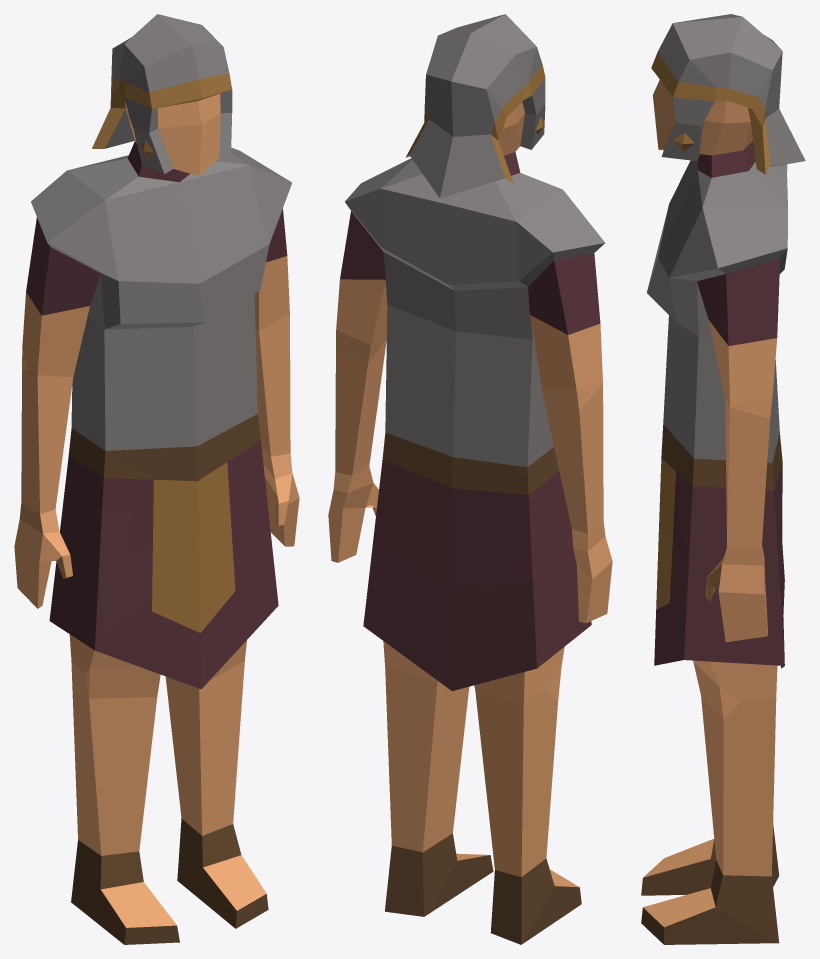
File: SM_Man_Soldier_Roman_Empire.fbx
3 renders of one model, left to right at view 1: azimuth 30°, elevation 25°; view 2: azimuth 150°, elevation 25°; view 3: azimuth 270°, elevation 25°, orthographic.
Parts seen in each view (by area): view 1: SM_Man_Soldier_Roman_Empire; view 2: SM_Man_Soldier_Roman_Empire; view 3: SM_Man_Soldier_Roman_Empire.
Part boxes in pixels (<box>): SM_Man_Soldier_Roman_Empire: <box>14,14,299,944</box>; SM_Man_Soldier_Roman_Empire: <box>328,14,612,944</box>; SM_Man_Soldier_Roman_Empire: <box>641,14,805,944</box>.
Size of the model in its own units: 0.5716 by 1.82 by 0.305.
